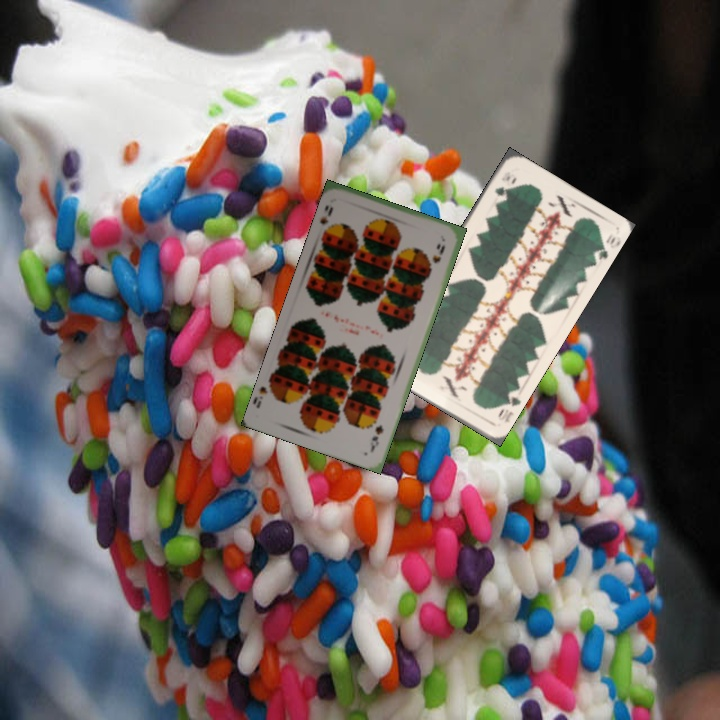G10: (494, 387, 523, 425), (491, 172, 513, 199)
S9: (316, 201, 336, 237), (367, 421, 386, 454)
